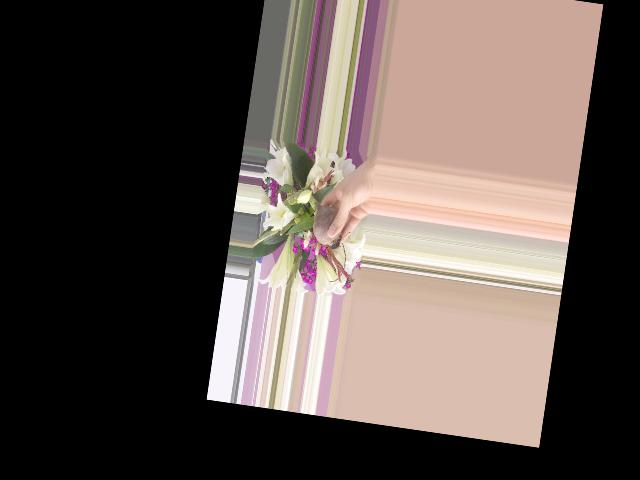beet: (303, 193, 347, 251)
